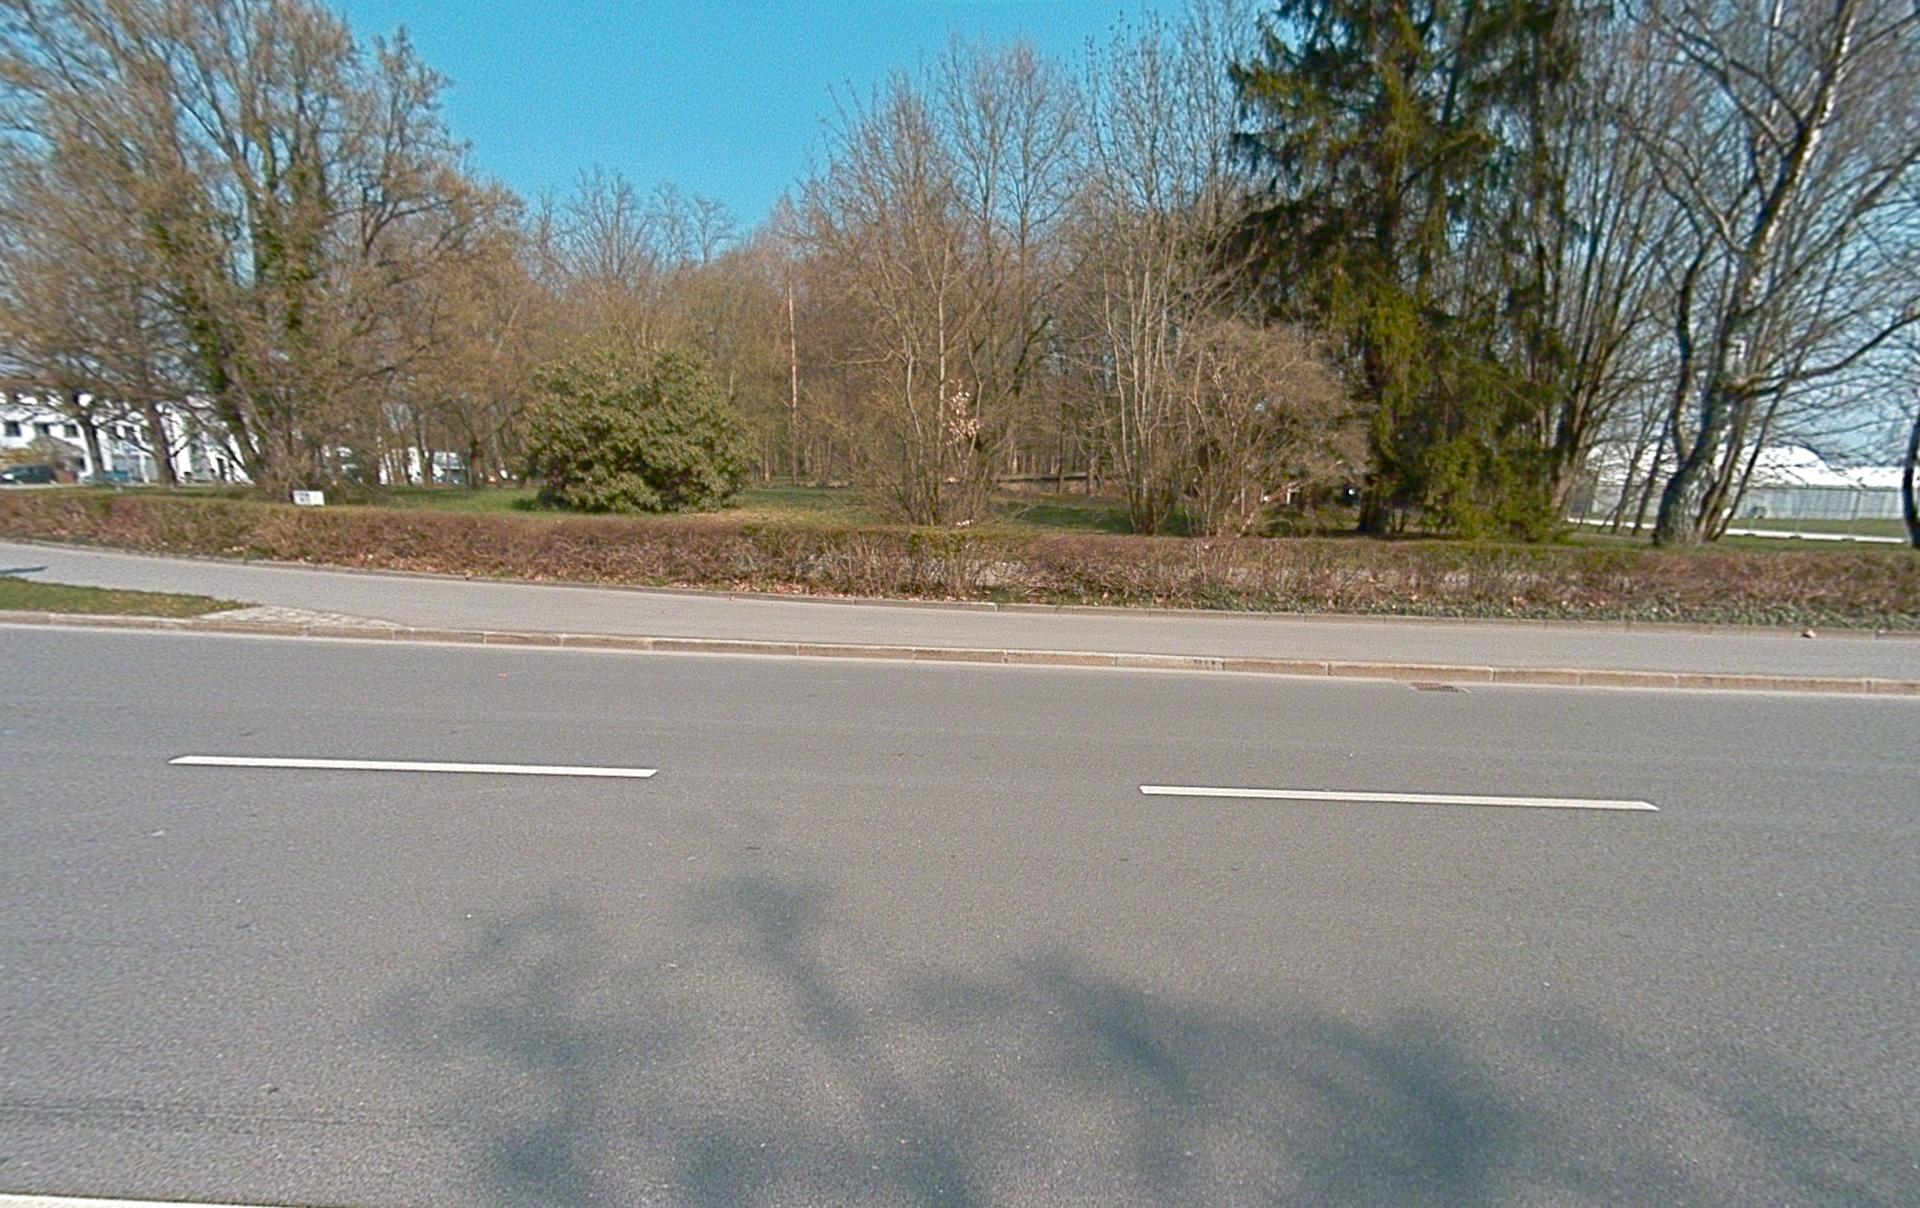car: (0, 463, 56, 483), (82, 470, 138, 484)
